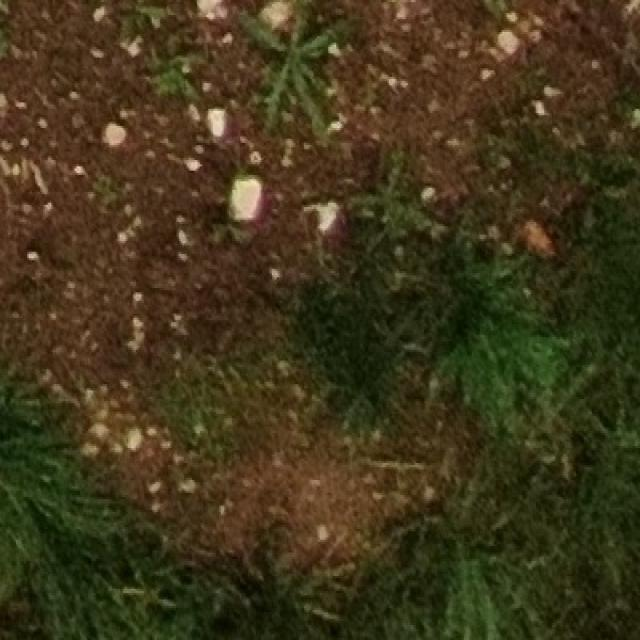cirse: (241, 0, 368, 157), (229, 0, 352, 154), (244, 4, 364, 160)
